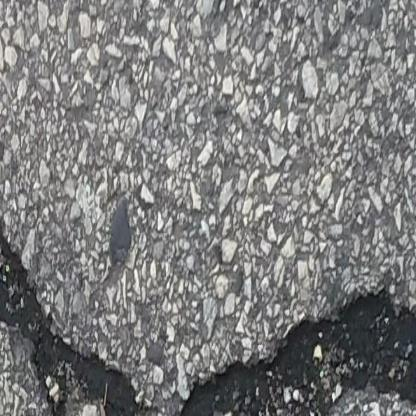Cracks: (174, 287, 416, 416), (0, 223, 158, 416)
